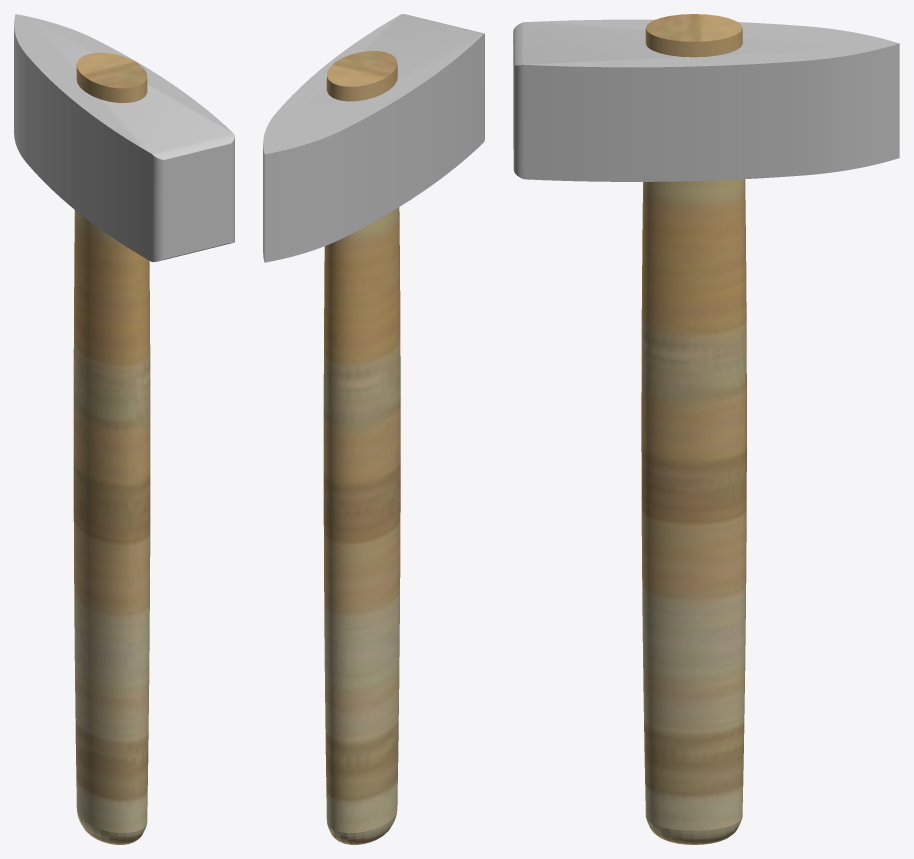
Rendered from Axe.fbx.
3 renders of one model, left to right at view 1: azimuth 30°, elevation 25°; view 2: azimuth 150°, elevation 25°; view 3: azimuth 270°, elevation 25°, orthographic. The views are drawn at different scales.
Parts seen in each view (by area): view 1: Model; view 2: Model; view 3: Model.
Boxes of the visible parts, <box> form: Model: <box>14,14,234,844</box>; Model: <box>263,14,484,844</box>; Model: <box>513,14,899,844</box>.
Bounding box in the file's own units: 4.58 × 36.12 × 15.65.
